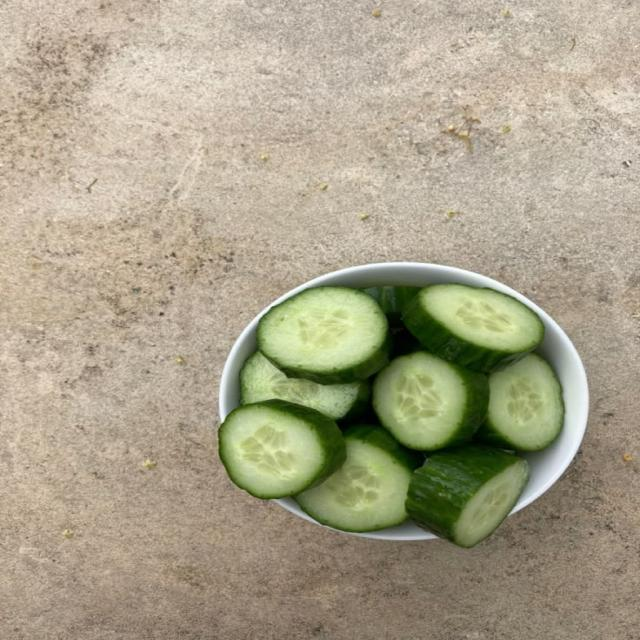cucumber sliced: (295, 425, 421, 531), (257, 287, 390, 384), (219, 400, 346, 499), (403, 284, 544, 372), (407, 445, 528, 547), (373, 351, 488, 450), (240, 352, 369, 420), (477, 354, 564, 450), (364, 286, 419, 326), (391, 328, 424, 358)
